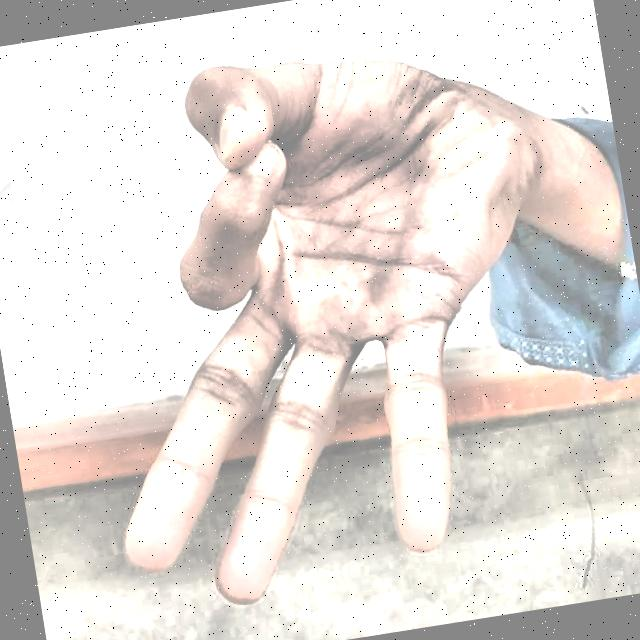Fa: (43, 0, 629, 640)
